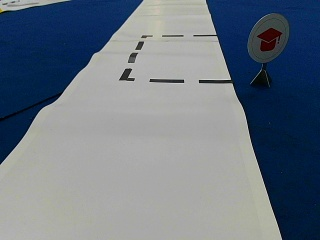school: (248, 13, 288, 62)
